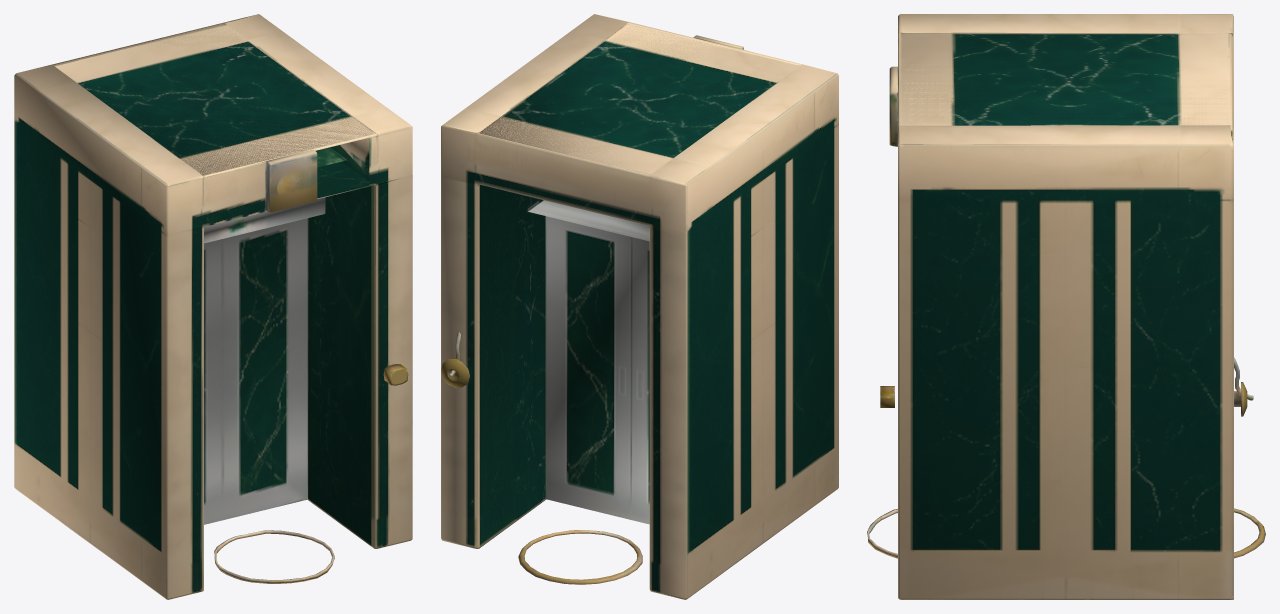
The model's file is elevator_finance.glb.
3 views of the same model, side by side, from view 1: azimuth 30°, elevation 25°; view 2: azimuth 150°, elevation 25°; view 3: azimuth 270°, elevation 25° (orthographic). The views are drawn at different scales.
Size of the model in its own units: 1.18 by 1.9 by 1.51.
1 material, 1 textured.
